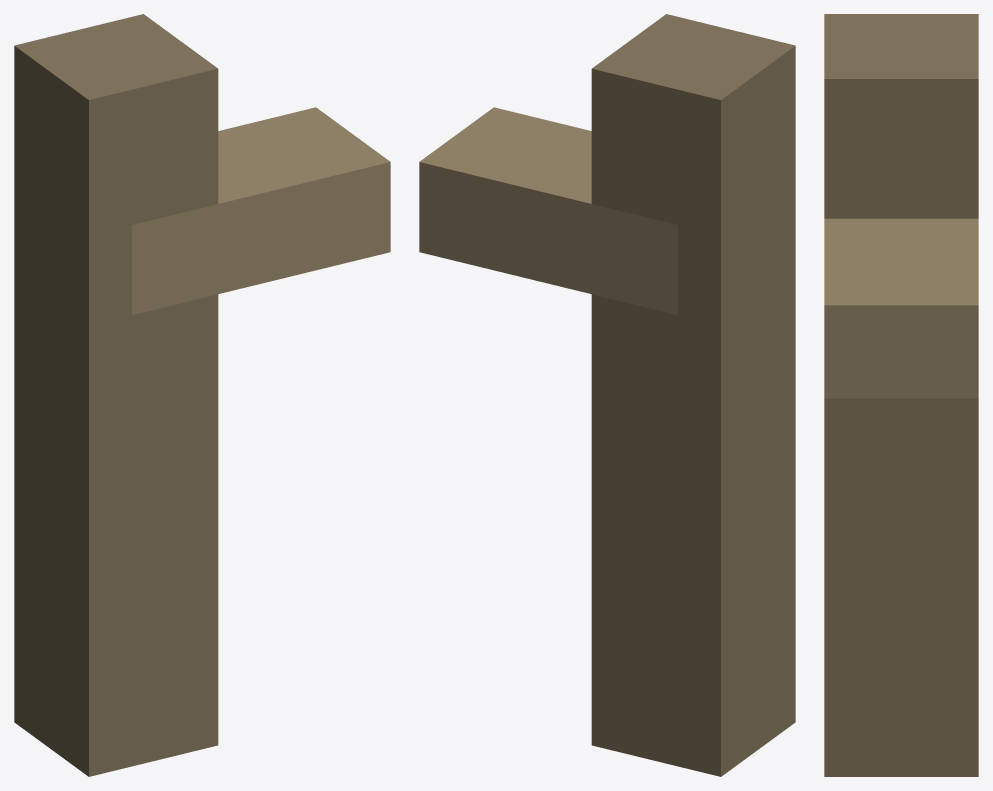
File: cartel_poste_01.glb
3 views of the same model, side by side, from view 1: azimuth 30°, elevation 25°; view 2: azimuth 150°, elevation 25°; view 3: azimuth 270°, elevation 25° (orthographic). The views are drawn at different scales.
Visible parts, largest first — view 1: cartel_poste_01; view 2: cartel_poste_01; view 3: cartel_poste_01.
Part boxes in pixels (x1,y1,x2,y2): cartel_poste_01: (14, 14, 390, 776); cartel_poste_01: (419, 14, 795, 776); cartel_poste_01: (824, 14, 978, 776).
Size of the model in its own units: 0.7 by 1.5 by 0.3.
